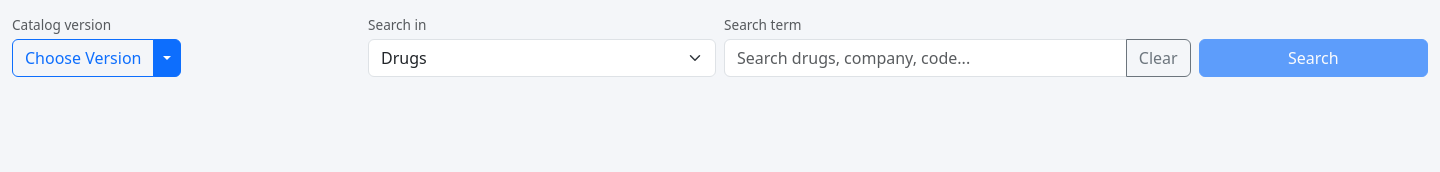
SearchBar › clears search term when clear button is clicked
The width and height of the screenshot is (1440, 172).
Type "test search" into the search field with id "search-bar" at (925, 58), box [724,39,1127,77]
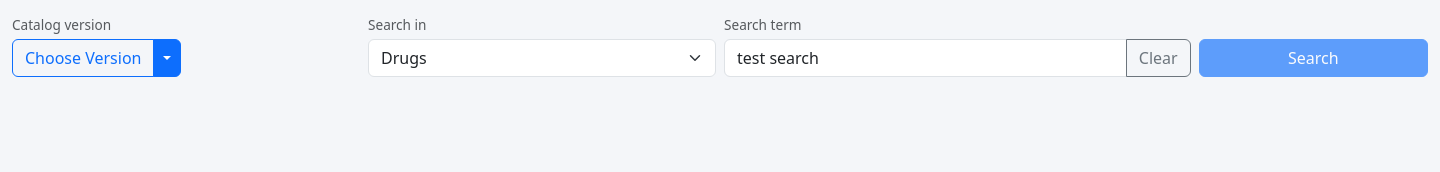
Click the button "Clear" at (1158, 58), box [1126,39,1191,77]
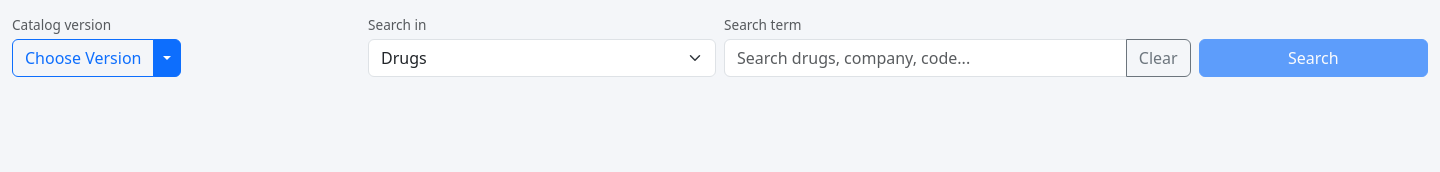
Now the search field with id "search-bar" is empty, box [724,39,1127,77]
